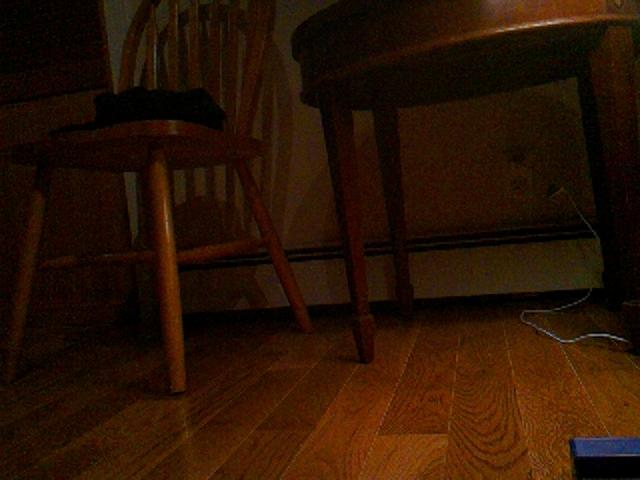blue: (568, 434, 640, 480)
